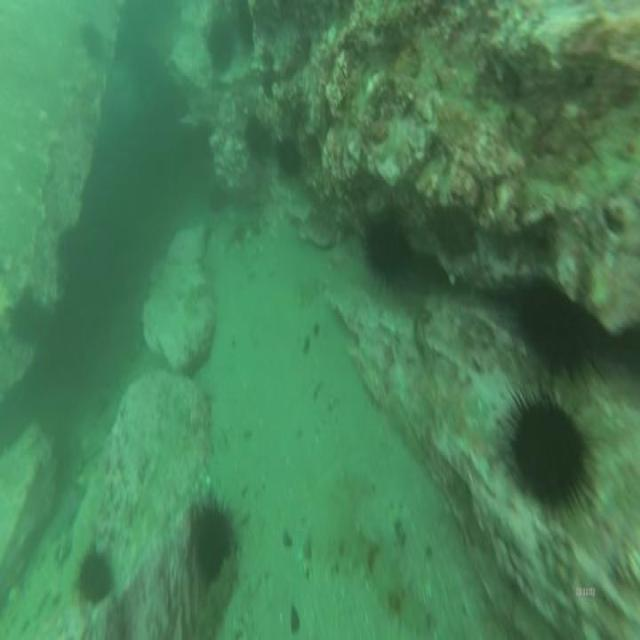echinus: (516, 382, 590, 532), (518, 281, 586, 376), (358, 200, 416, 298), (185, 495, 232, 586), (75, 534, 116, 612), (204, 16, 238, 77), (278, 131, 305, 182), (246, 108, 271, 160)
